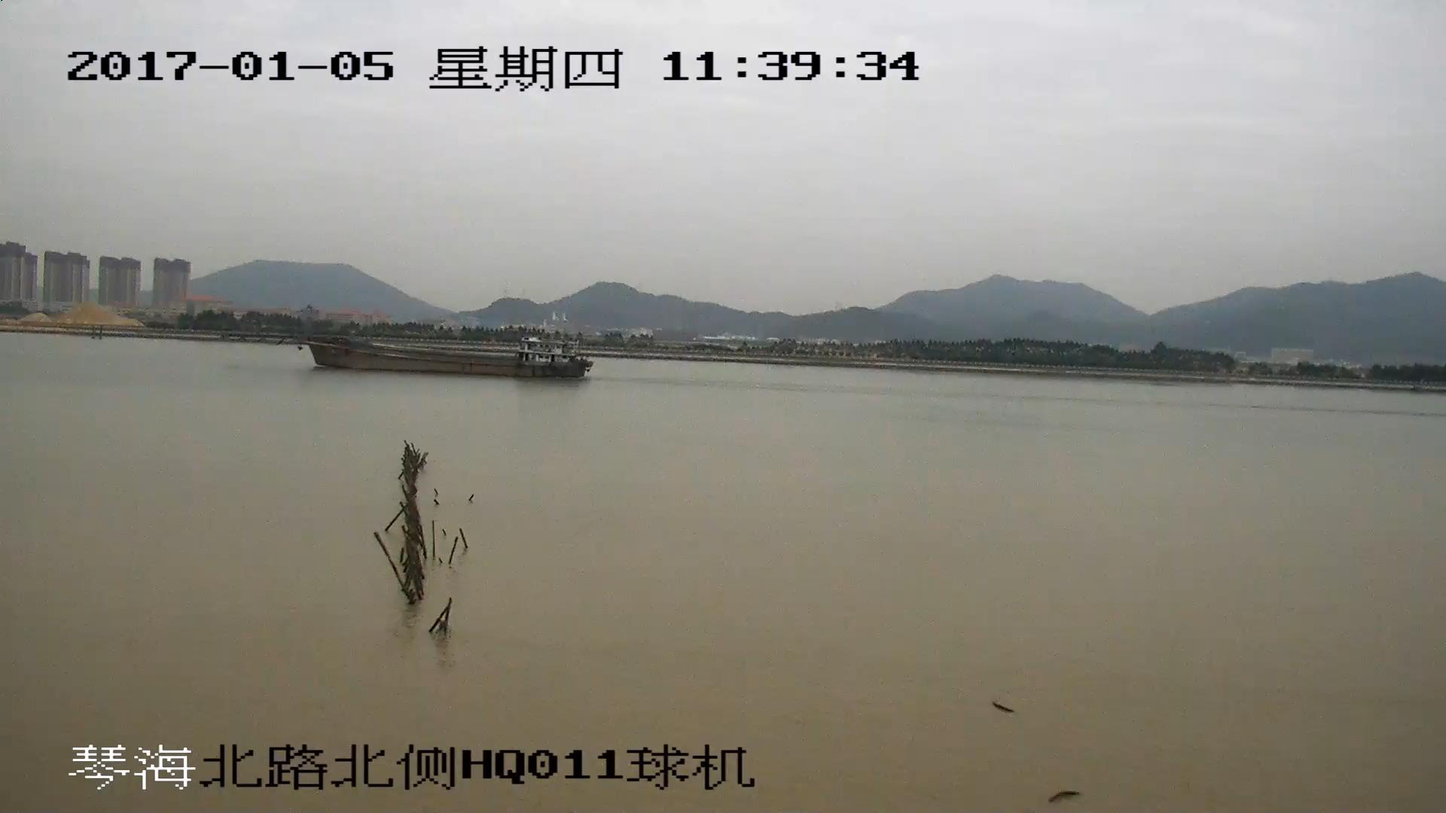bulk cargo carrier: (230, 313, 593, 379)
